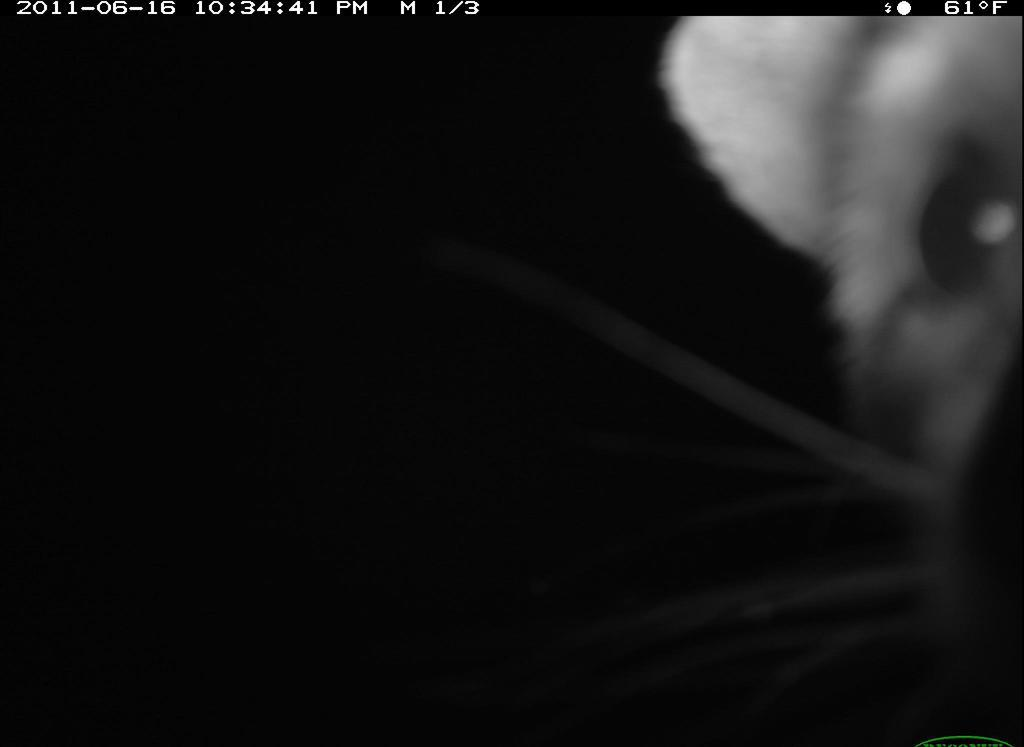raccoon: (643, 9, 1024, 747)
